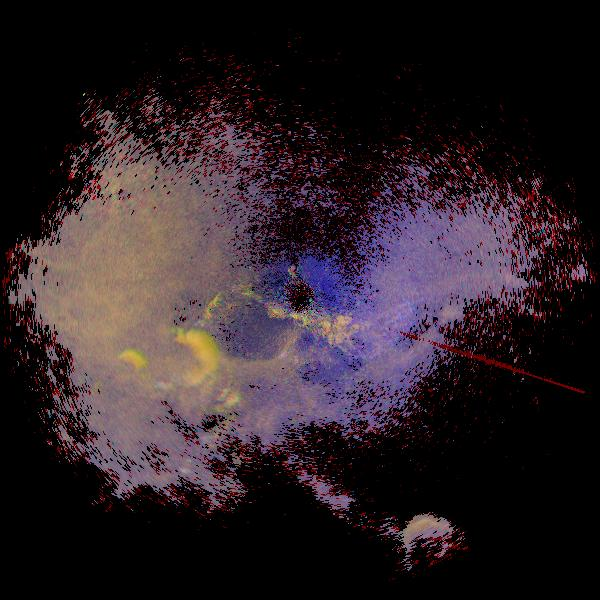roost: (117, 302, 240, 425), (98, 336, 164, 402)
